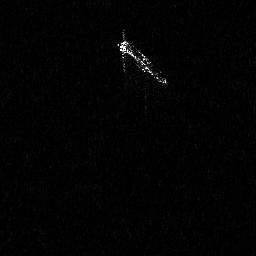ship: (116, 29, 169, 87)
